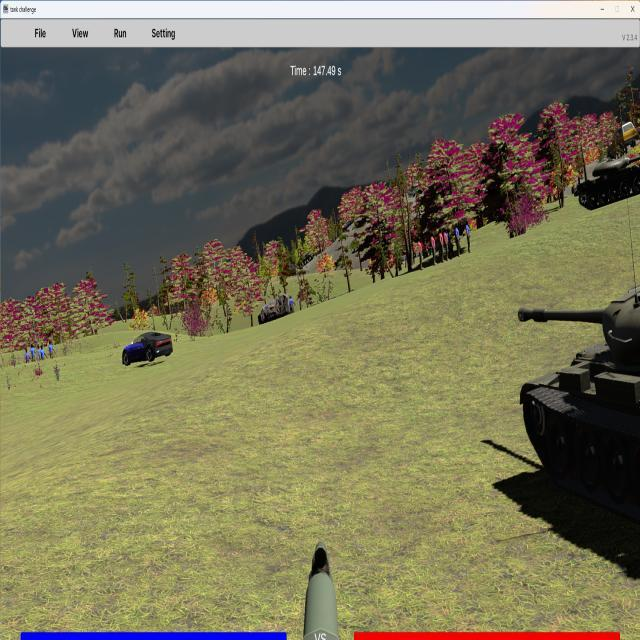Tank: (519, 271, 640, 526), (573, 154, 640, 210)
car: (122, 331, 172, 366), (621, 121, 639, 150)
